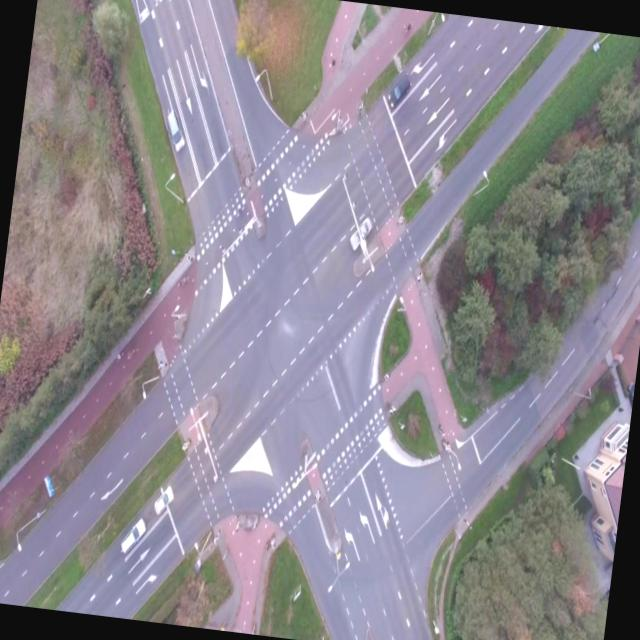car: (158, 105, 190, 152), (344, 212, 378, 254), (118, 512, 149, 556), (384, 70, 415, 110), (150, 482, 177, 516)
